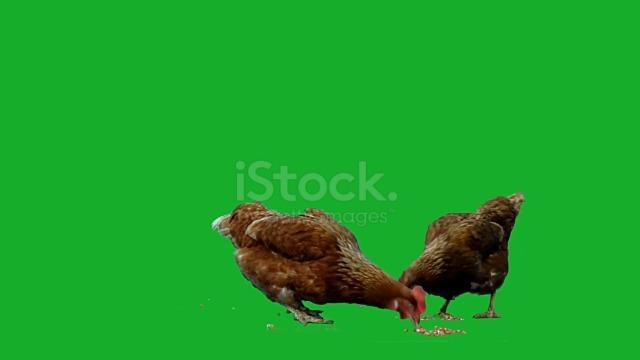Normal: (212, 202, 429, 328), (403, 189, 524, 314)
